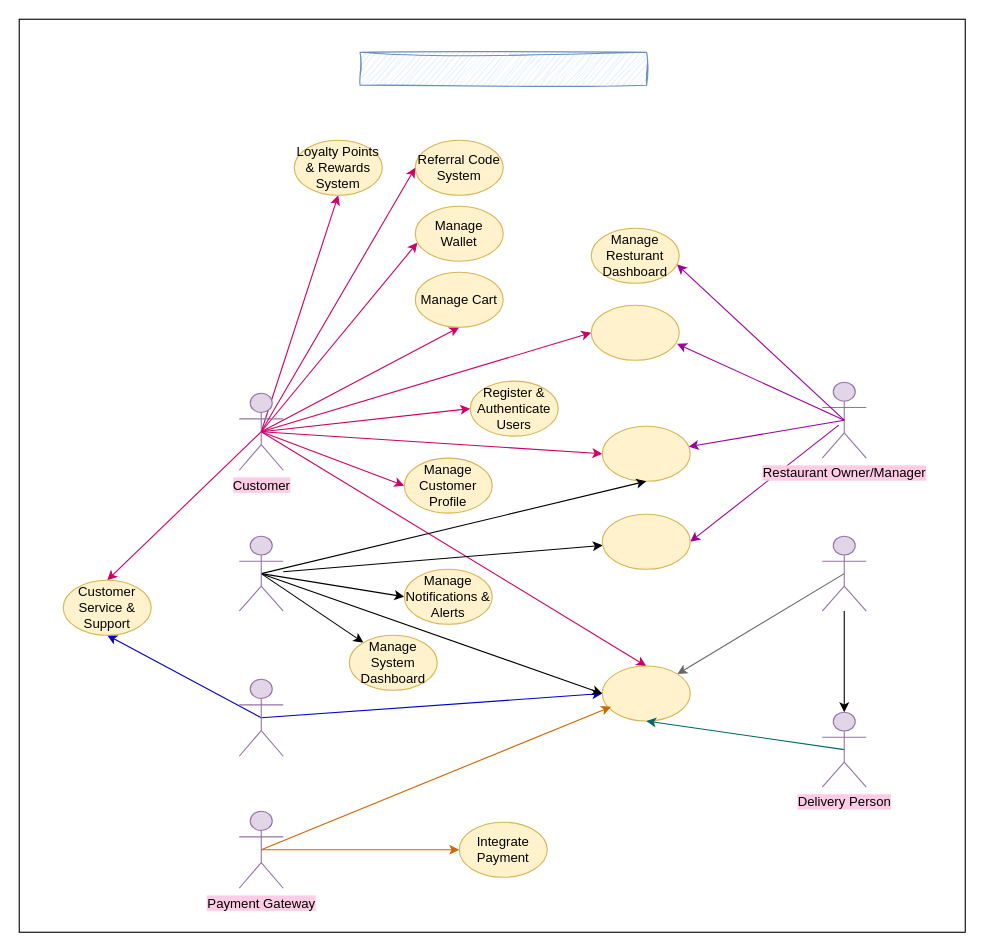
The diagram is 985 pixels wide and 952 high, and some of its shapes have lost their labels. Here are the shapes that lost their labels. From the top down, the centre of each, then its label:
At pixel 503 68: "Top Level Use Case Model".
At pixel 634 332: "Manage Menus".
At pixel 645 453: "Manage Restaurants".
At pixel 645 541: "Manage Offers & Discounts".
At pixel 260 573: "System Admin".
At pixel 843 573: "Restaurant/Kitchen Staff".
At pixel 645 693: "Manage Orders".
At pixel 260 717: "Customer Service".
